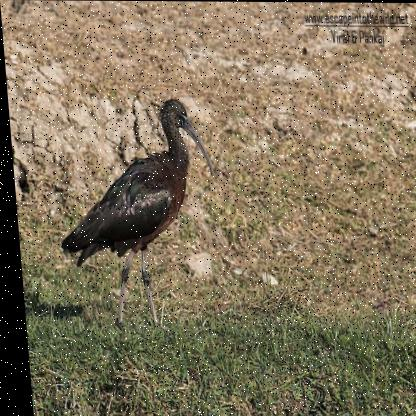Burung: (46, 95, 222, 337)
